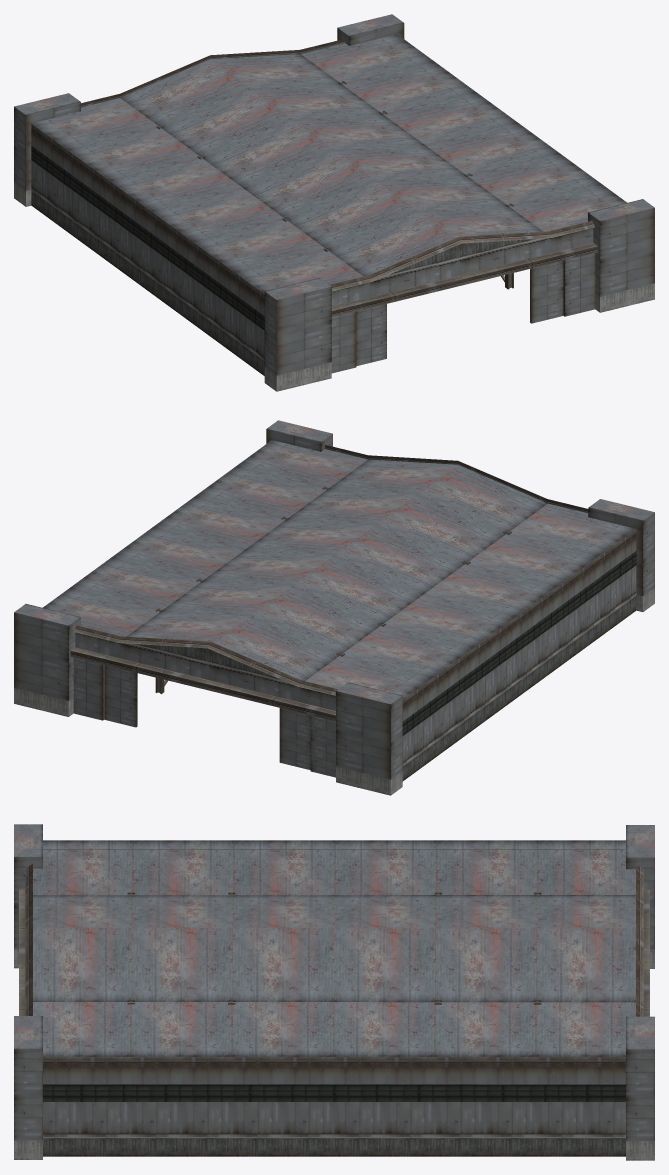
Rendered from ind-hangar.walls-v1.lod0.glb.
The picture shows the model from 3 angles, top to bottom: view 1: azimuth 30°, elevation 25°; view 2: azimuth 150°, elevation 25°; view 3: azimuth 270°, elevation 25°; orthographic projection. The views are drawn at different scales.
Parts seen in each view (by area): view 1: Industrial_Hangar_2_Industrial_Walls_FLR_1_0, Industrial_Hangar_2_Industrial_Windows_FLR_1_0; view 2: Industrial_Hangar_2_Industrial_Walls_FLR_1_0, Industrial_Hangar_2_Industrial_Windows_FLR_1_0; view 3: Industrial_Hangar_2_Industrial_Walls_FLR_1_0, Industrial_Hangar_2_Industrial_Windows_FLR_1_0.
Part boxes in pixels (left/top/right/bottom): Industrial_Hangar_2_Industrial_Walls_FLR_1_0: left=14, top=14, right=654, bottom=391; Industrial_Hangar_2_Industrial_Windows_FLR_1_0: left=31, top=145, right=264, bottom=330; Industrial_Hangar_2_Industrial_Walls_FLR_1_0: left=14, top=420, right=654, bottom=795; Industrial_Hangar_2_Industrial_Windows_FLR_1_0: left=402, top=550, right=636, bottom=735; Industrial_Hangar_2_Industrial_Walls_FLR_1_0: left=14, top=824, right=654, bottom=1160; Industrial_Hangar_2_Industrial_Windows_FLR_1_0: left=43, top=1084, right=625, bottom=1101.
Bounding box in the file's own units: 49.78 × 12.88 × 59.96.
Materials: 2 (2 with a texture image).
